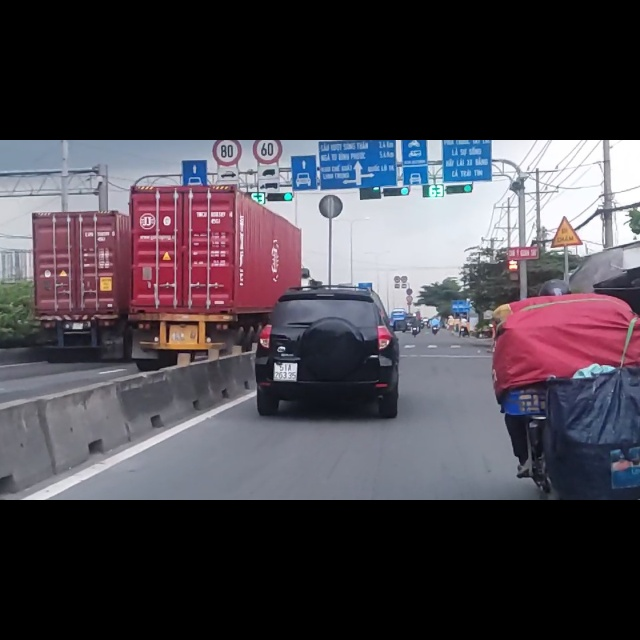bien_cam: (549, 135, 584, 191), (212, 1, 241, 46), (253, 1, 281, 44)
